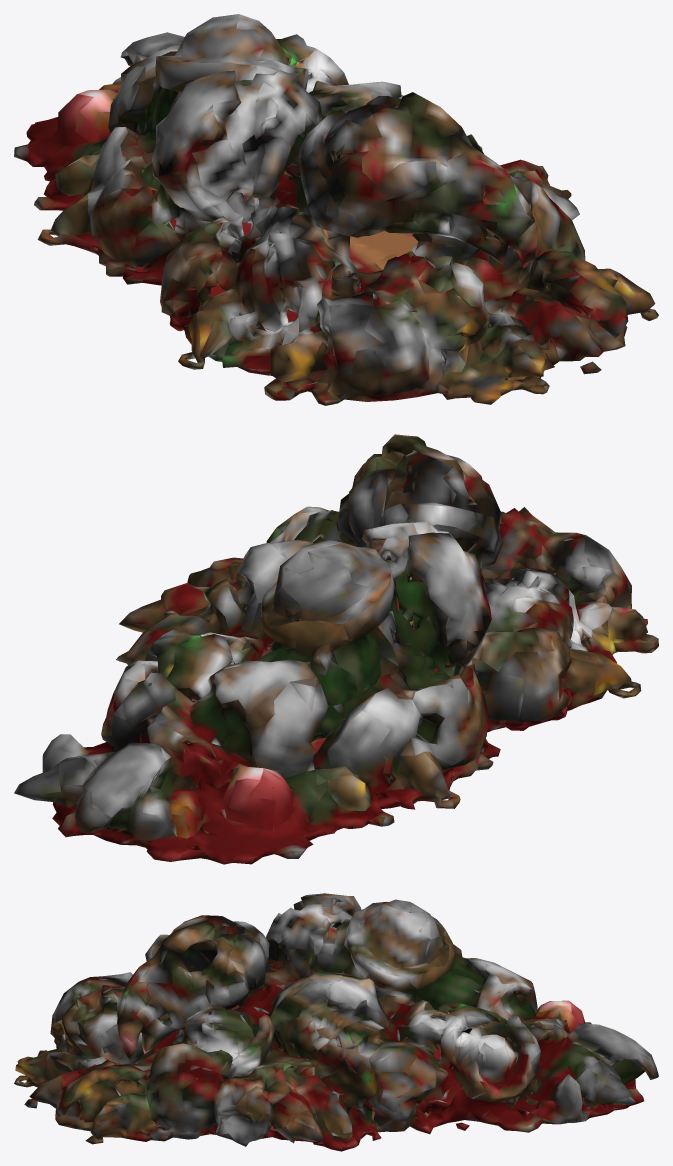
The model's file is BOSSN0.obj.
3 views of the same model, one above another, from view 1: azimuth 30°, elevation 25°; view 2: azimuth 150°, elevation 25°; view 3: azimuth 270°, elevation 25° (orthographic). The views are drawn at different scales.
Bounding box in the file's own units: 0.6125 × 0.283 × 1.
1 material, 1 textured.
